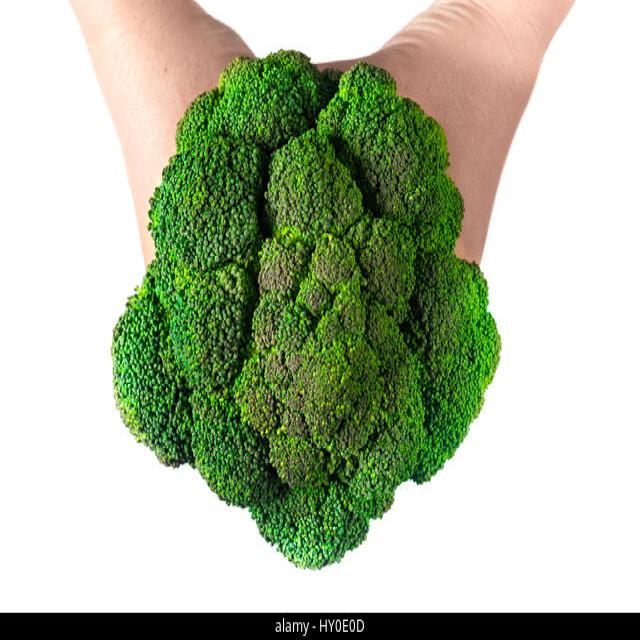broccoli: (110, 48, 506, 572)
